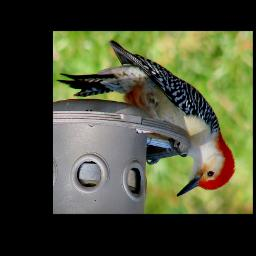Woodpecker: (57, 39, 235, 196)
